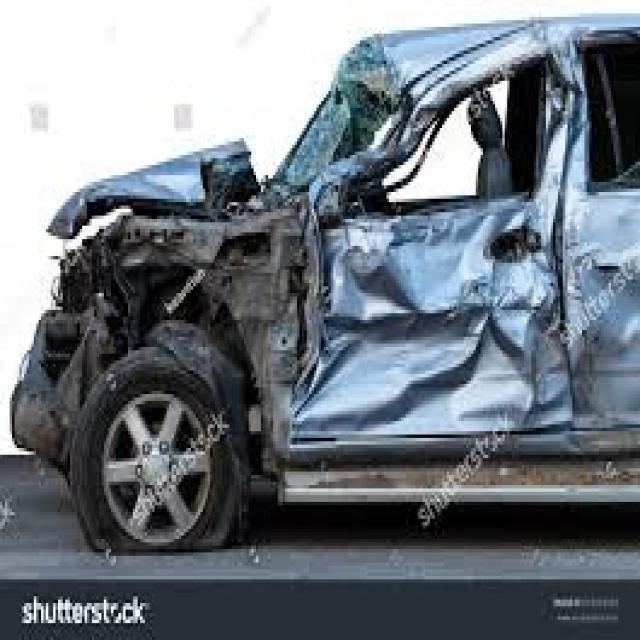damaged-door: (318, 47, 557, 479)
